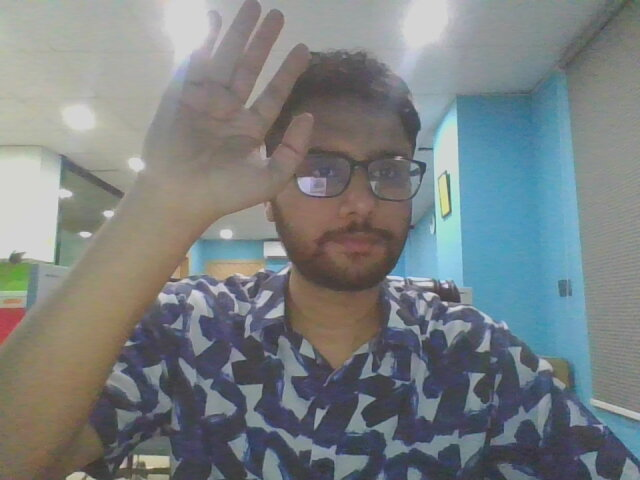hello: (118, 1, 329, 255)
